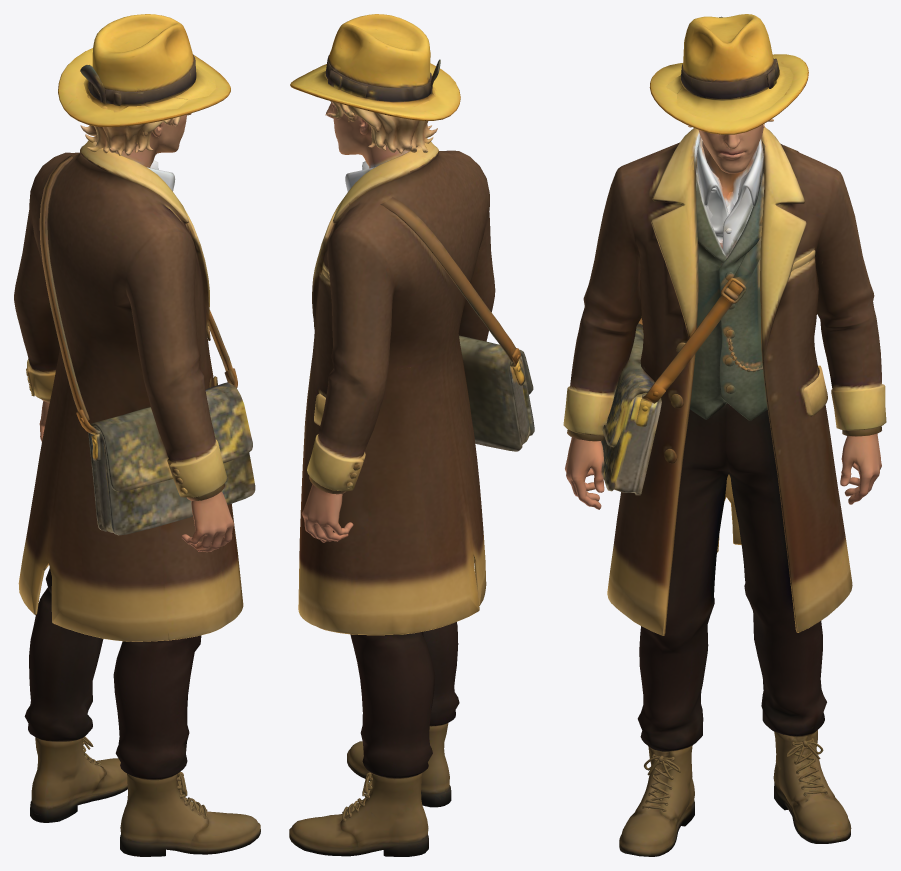
Rendered from detective.glb.
3 renders of one model, left to right at view 1: azimuth 30°, elevation 25°; view 2: azimuth 150°, elevation 25°; view 3: azimuth 270°, elevation 25°, orthographic. The views are drawn at different scales.
Visible parts, largest first — view 1: tripo_part_2, tripo_part_5, tripo_part_9, tripo_part_14, tripo_part_8, tripo_part_13, tripo_part_22, tripo_part_17, tripo_part_11, tripo_part_6, tripo_part_3, tripo_part_1; view 2: tripo_part_2, tripo_part_5, tripo_part_13, tripo_part_8, tripo_part_9, tripo_part_17, tripo_part_22, tripo_part_3, tripo_part_14, tripo_part_11, tripo_part_7, tripo_part_1; view 3: tripo_part_2, tripo_part_5, tripo_part_4, tripo_part_9, tripo_part_8, tripo_part_13, tripo_part_14, tripo_part_11, tripo_part_22, tripo_part_10, tripo_part_1, tripo_part_17 (+3 smaller).
Part boxes in pixels (<box>): tripo_part_2: <box>14,140,243,641</box>; tripo_part_5: <box>24,567,201,780</box>; tripo_part_9: <box>88,382,255,535</box>; tripo_part_14: <box>120,773,260,856</box>; tripo_part_8: <box>92,14,193,91</box>; tripo_part_13: <box>30,737,127,822</box>; tripo_part_22: <box>58,48,230,127</box>; tripo_part_17: <box>39,155,237,420</box>; tripo_part_11: <box>83,54,216,110</box>; tripo_part_6: <box>181,491,233,552</box>; tripo_part_3: <box>80,95,180,155</box>; tripo_part_1: <box>114,114,187,167</box>; tripo_part_2: <box>298,138,495,635</box>; tripo_part_5: <box>350,622,459,779</box>; tripo_part_13: <box>289,773,428,856</box>; tripo_part_8: <box>327,14,430,88</box>; tripo_part_9: <box>459,335,534,451</box>; tripo_part_17: <box>380,197,515,362</box>; tripo_part_22: <box>290,63,460,120</box>; tripo_part_3: <box>325,87,437,153</box>; tripo_part_14: <box>347,723,451,807</box>; tripo_part_11: <box>305,55,435,107</box>; tripo_part_7: <box>301,484,353,542</box>; tripo_part_1: <box>326,101,409,168</box>; tripo_part_2: <box>563,127,886,635</box>; tripo_part_5: <box>637,403,826,751</box>; tripo_part_4: <box>690,173,767,420</box>; tripo_part_9: <box>601,323,661,495</box>; tripo_part_8: <box>683,14,773,82</box>; tripo_part_13: <box>773,730,851,843</box>; tripo_part_14: <box>619,745,694,856</box>; tripo_part_11: <box>665,58,793,121</box>; tripo_part_22: <box>649,54,808,134</box>; tripo_part_10: <box>697,137,763,257</box>; tripo_part_1: <box>698,124,764,248</box>; tripo_part_17: <box>641,145,798,403</box>.
Size of the model in its own units: 0.2427 by 0.9995 by 0.3618.
Materials: 1 (1 with a texture image).
